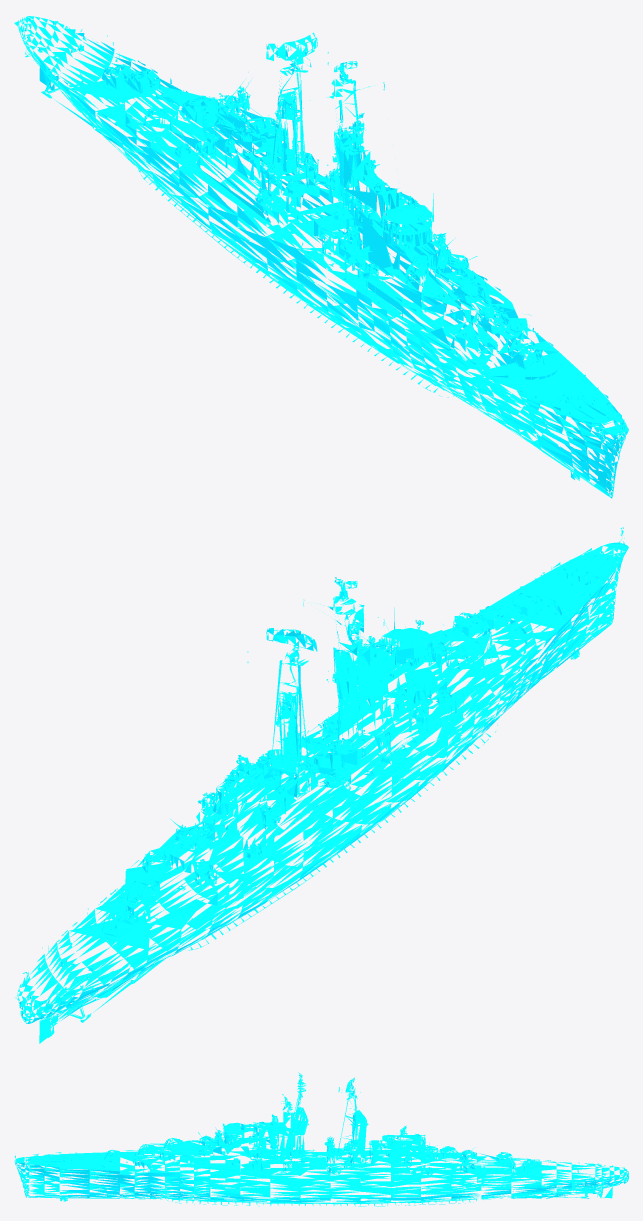
File: Unie.glb
3 views of the same model, one above another, from view 1: azimuth 30°, elevation 25°; view 2: azimuth 150°, elevation 25°; view 3: azimuth 270°, elevation 25° (orthographic). The views are drawn at different scales.
Bounding box in the file's own units: 1.31 × 3.03 × 13.34.
